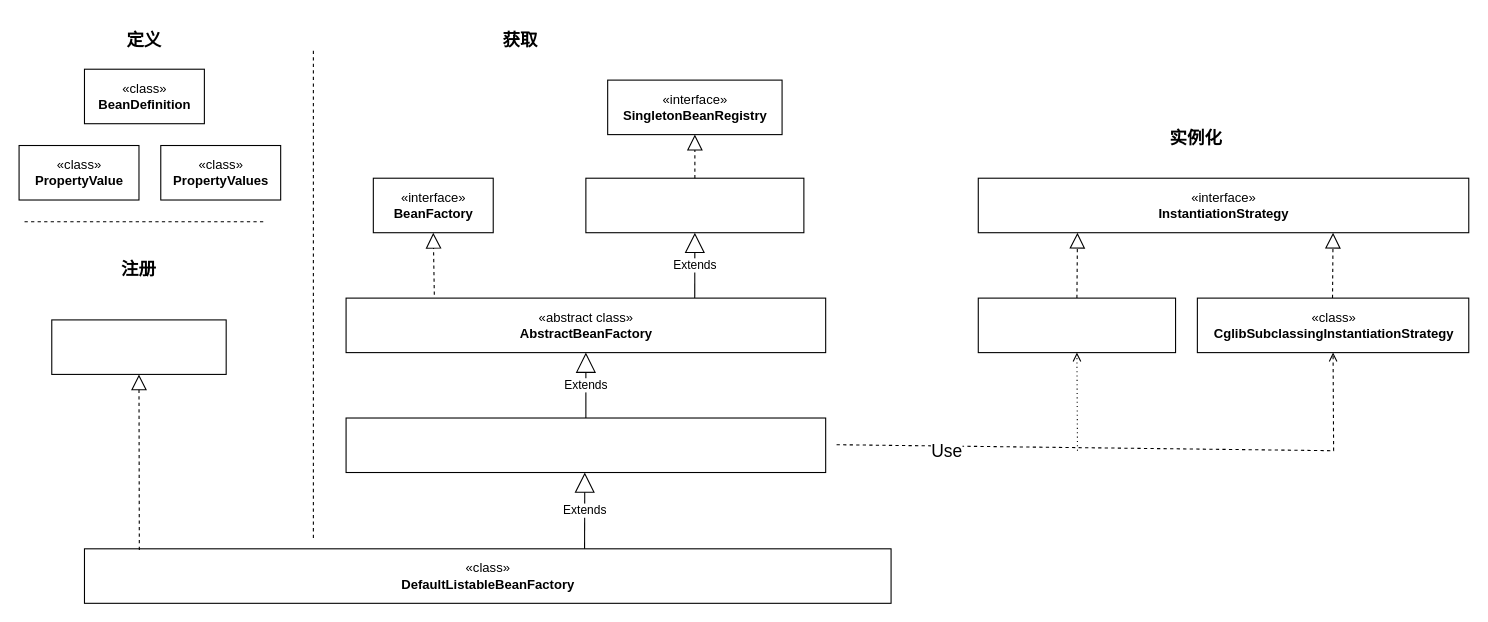
The diagram is 1488 pixels wide and 622 high, and some of its shapes have lost their labels. The centre of each missing label's shape, as x and y in pixels:
«abstract class» AbstractAutowireCapableBeanFactory: point (585, 445)
«class» DefaultSingletonBeanRegistry: point (694, 205)
«class» SimpleInstantiationStrategy: point (1076, 325)
«interface» BeanDefinitionRegistry: point (138, 346)
